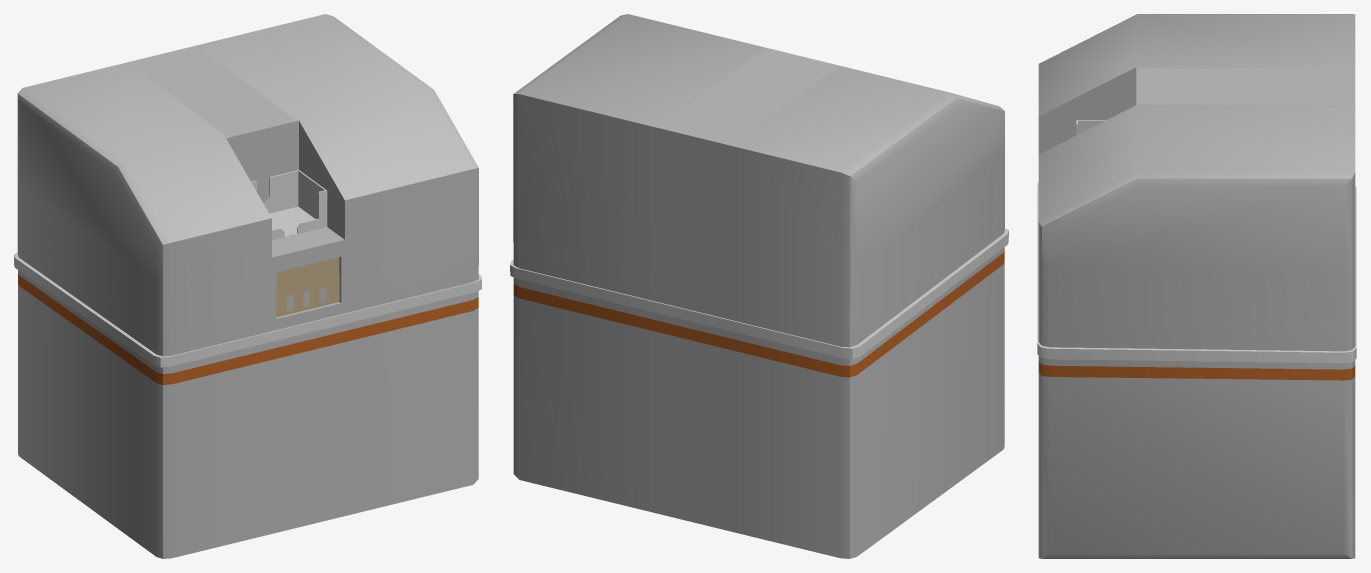
The model's file is Univac_Trieuse.glb.
The picture shows the model from 3 angles, left to right: view 1: azimuth 30°, elevation 25°; view 2: azimuth 150°, elevation 25°; view 3: azimuth 270°, elevation 25°; orthographic projection. The views are drawn at different scales.
Parts seen in each view (by area): view 1: Trieuse; view 2: Trieuse; view 3: Trieuse.
Boxes of the visible parts, box(x1,y1,x2,y2) form: Trieuse: box(14, 14, 481, 558); Trieuse: box(510, 14, 1008, 558); Trieuse: box(1037, 14, 1356, 558).
Bounding box in the file's own units: 1.23 × 1.3 × 0.974.
